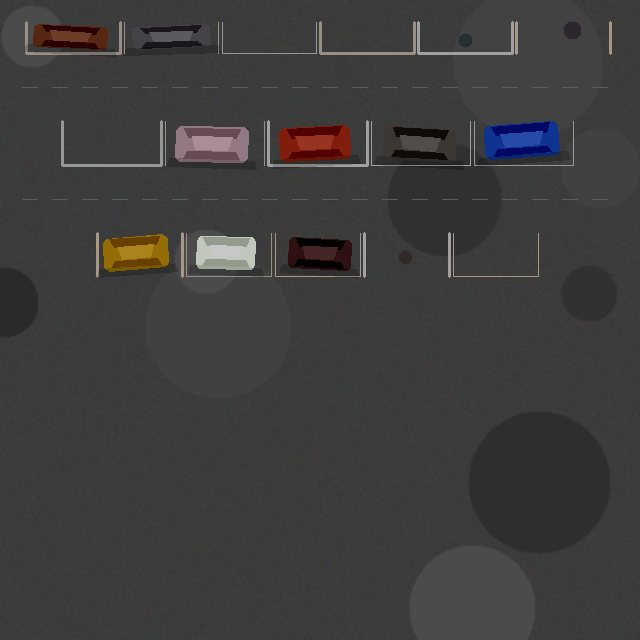space-empty: (62, 121, 161, 165), (364, 233, 449, 276), (453, 233, 538, 276), (222, 22, 316, 53), (320, 22, 414, 53), (418, 22, 512, 53), (516, 22, 610, 53)
space-occupied: (165, 121, 264, 165), (268, 121, 367, 165), (371, 121, 470, 165), (474, 121, 573, 165), (97, 233, 182, 276), (186, 233, 271, 276), (275, 233, 360, 276), (26, 22, 120, 53), (124, 22, 218, 53)
